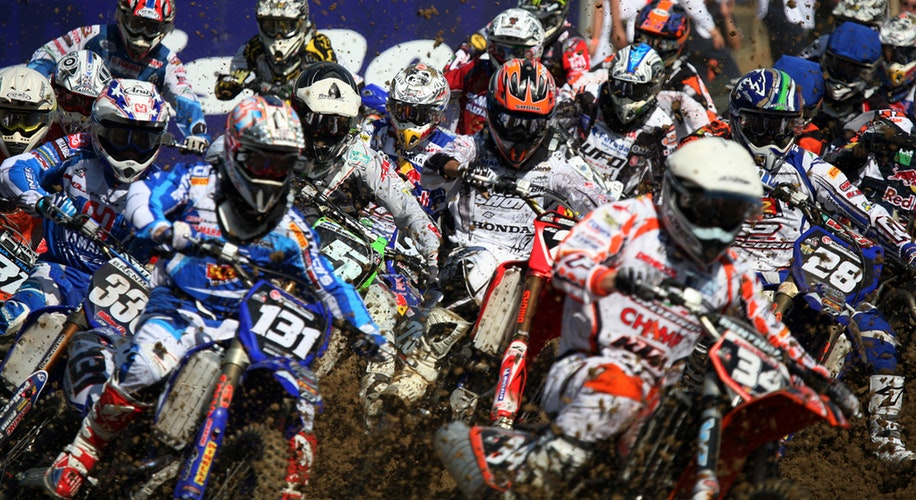helmet: (670, 148, 762, 267), (289, 56, 379, 174), (220, 96, 306, 203), (485, 65, 567, 165), (84, 80, 170, 173), (377, 55, 449, 158), (726, 66, 800, 163), (468, 7, 562, 73), (604, 34, 666, 126), (124, 1, 166, 47)
